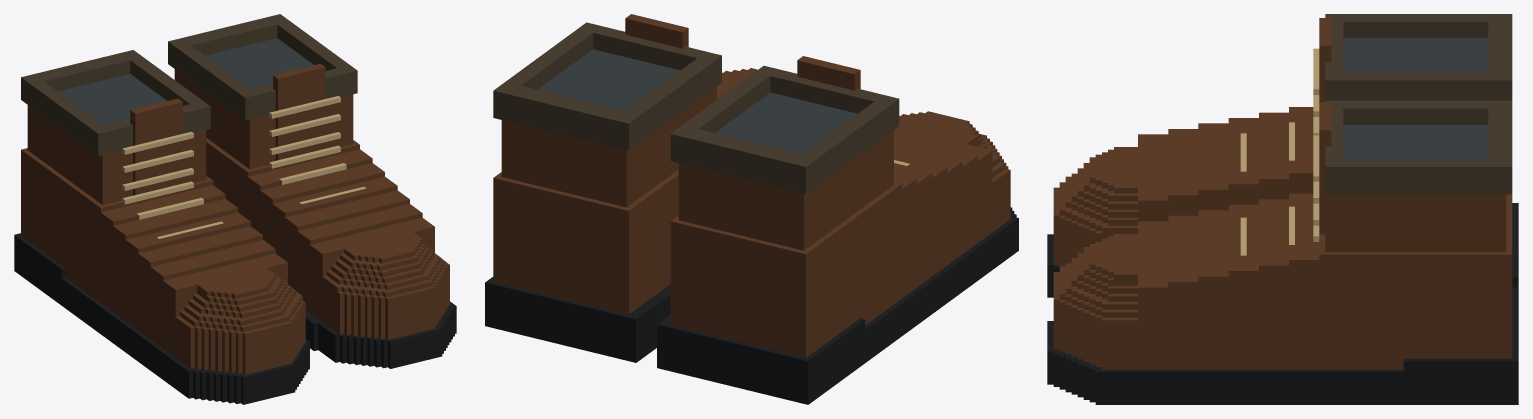
Rendered from boots.glb.
3 renders of one model, left to right at view 1: azimuth 30°, elevation 25°; view 2: azimuth 150°, elevation 25°; view 3: azimuth 270°, elevation 25°, orthographic. The views are drawn at different scales.
Visible parts, largest first — view 1: boots:compound; view 2: boots:compound; view 3: boots:compound.
Part boxes in pixels (box(x1,y1,x2,y2)): boots:compound: box(14, 14, 456, 404); boots:compound: box(485, 14, 1018, 404); boots:compound: box(1047, 14, 1518, 404).
Size of the model in its own units: 0.248 by 0.184 by 0.312.
